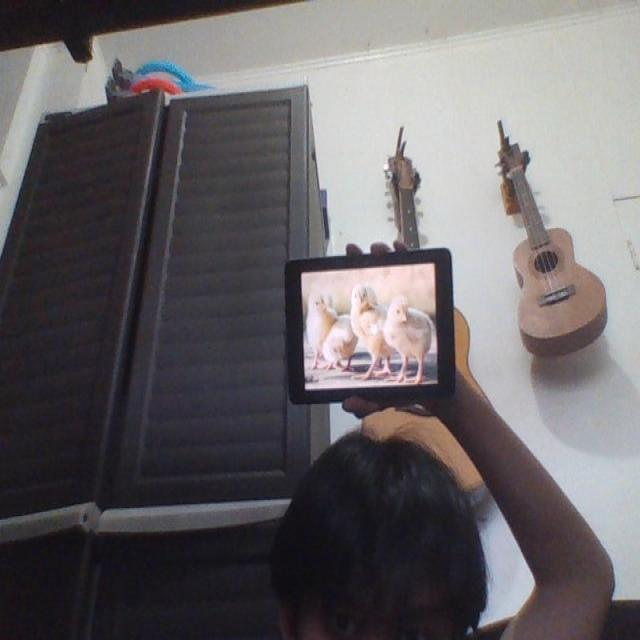Healthy: (385, 297, 432, 378), (352, 288, 392, 382), (309, 289, 333, 346)
Sick: (326, 309, 356, 367)
